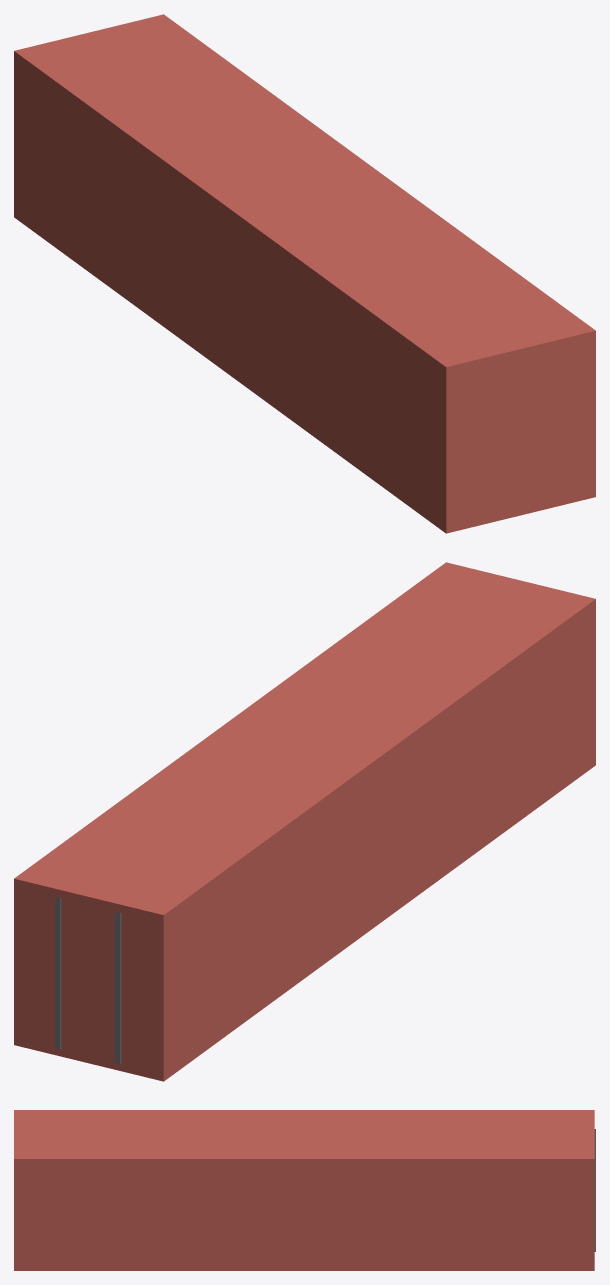
3 views of the same model, one above another, from view 1: azimuth 30°, elevation 25°; view 2: azimuth 150°, elevation 25°; view 3: azimuth 270°, elevation 25° (orthographic). The views are drawn at different scales.
Visible parts, largest first — view 1: 411; view 2: 411; view 3: 411.
Part boxes in pixels (x1,y1,x2,y2): 411: (14, 14, 595, 533); 411: (14, 562, 595, 1081); 411: (14, 1110, 595, 1270).
Size of the model in its own units: 2.44 by 2.59 by 12.22.
